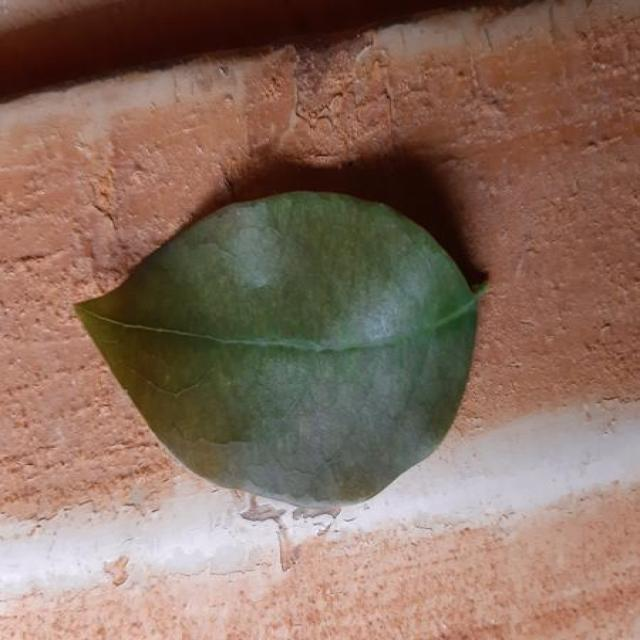amla: (77, 186, 481, 520), (478, 100, 485, 134), (477, 56, 482, 94)
